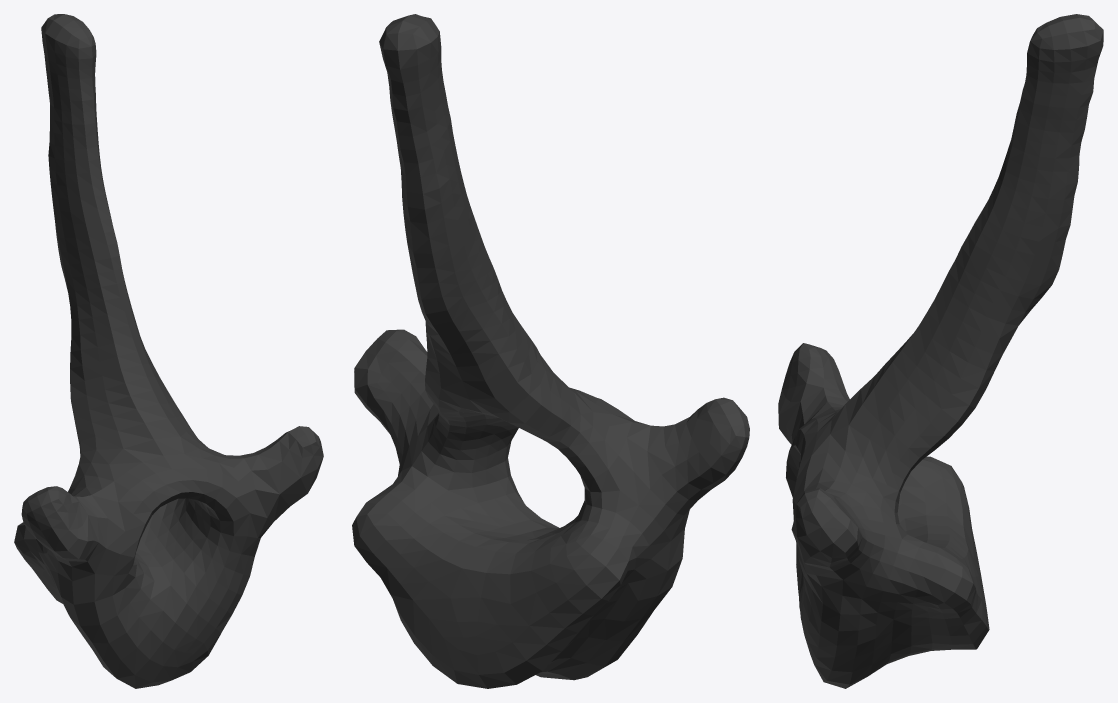
3 renders of one model, left to right at view 1: azimuth 30°, elevation 25°; view 2: azimuth 150°, elevation 25°; view 3: azimuth 270°, elevation 25°, orthographic. The views are drawn at different scales.
Parts seen in each view (by area): view 1: T6; view 2: T6; view 3: T6.
Boxes of the visible parts, box(x1,y1,x2,y2) form: T6: box(14, 14, 323, 688); T6: box(352, 14, 749, 688); T6: box(778, 14, 1103, 688).
Bounding box in the file's own units: 2.21 × 4.14 × 1.82.
Materials: 1 (1 with a texture image).
